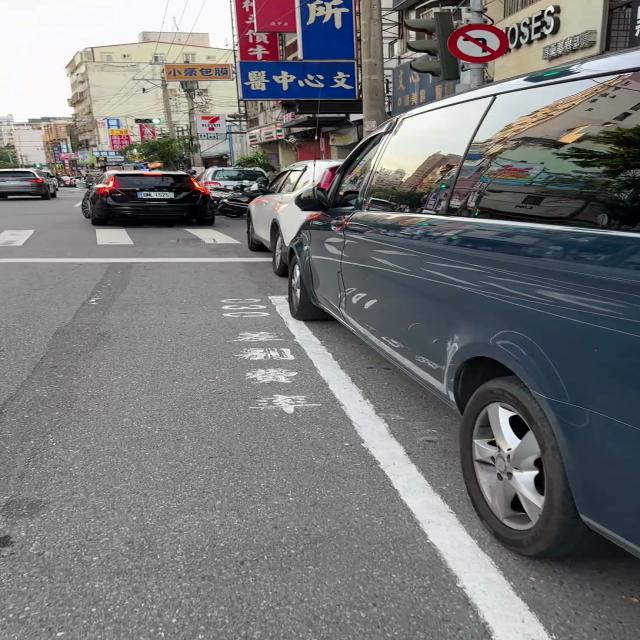car: (289, 50, 640, 558), (247, 160, 342, 276), (82, 170, 214, 225), (0, 169, 57, 199), (199, 168, 265, 188), (362, 119, 377, 133)
crosswalk: (0, 227, 246, 247)
